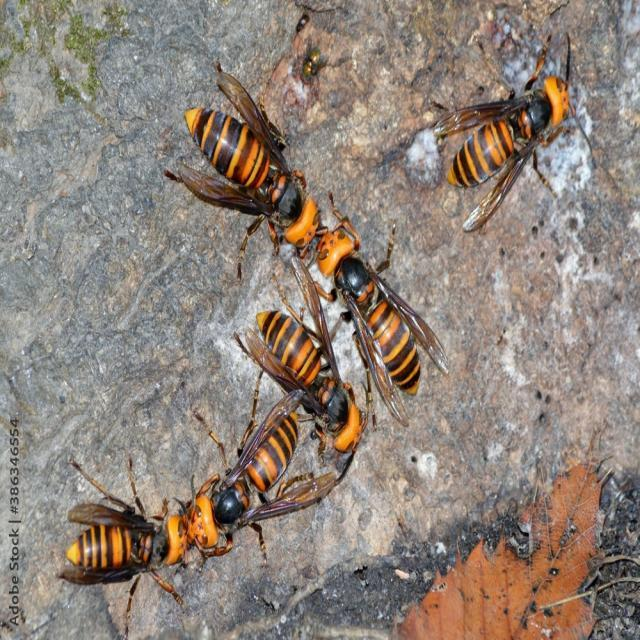Wasp: (166, 69, 322, 255), (438, 30, 582, 221), (178, 398, 334, 562), (312, 218, 444, 408), (49, 456, 187, 631), (239, 293, 371, 451)
